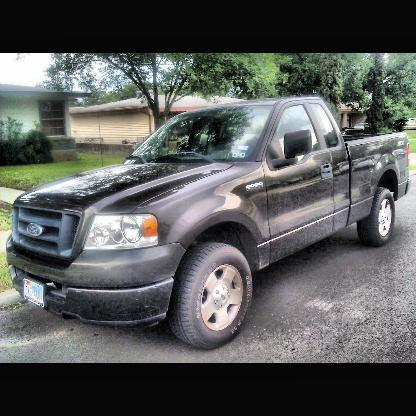Ford F-150 Regular Cab 2007: (5, 96, 411, 355)
